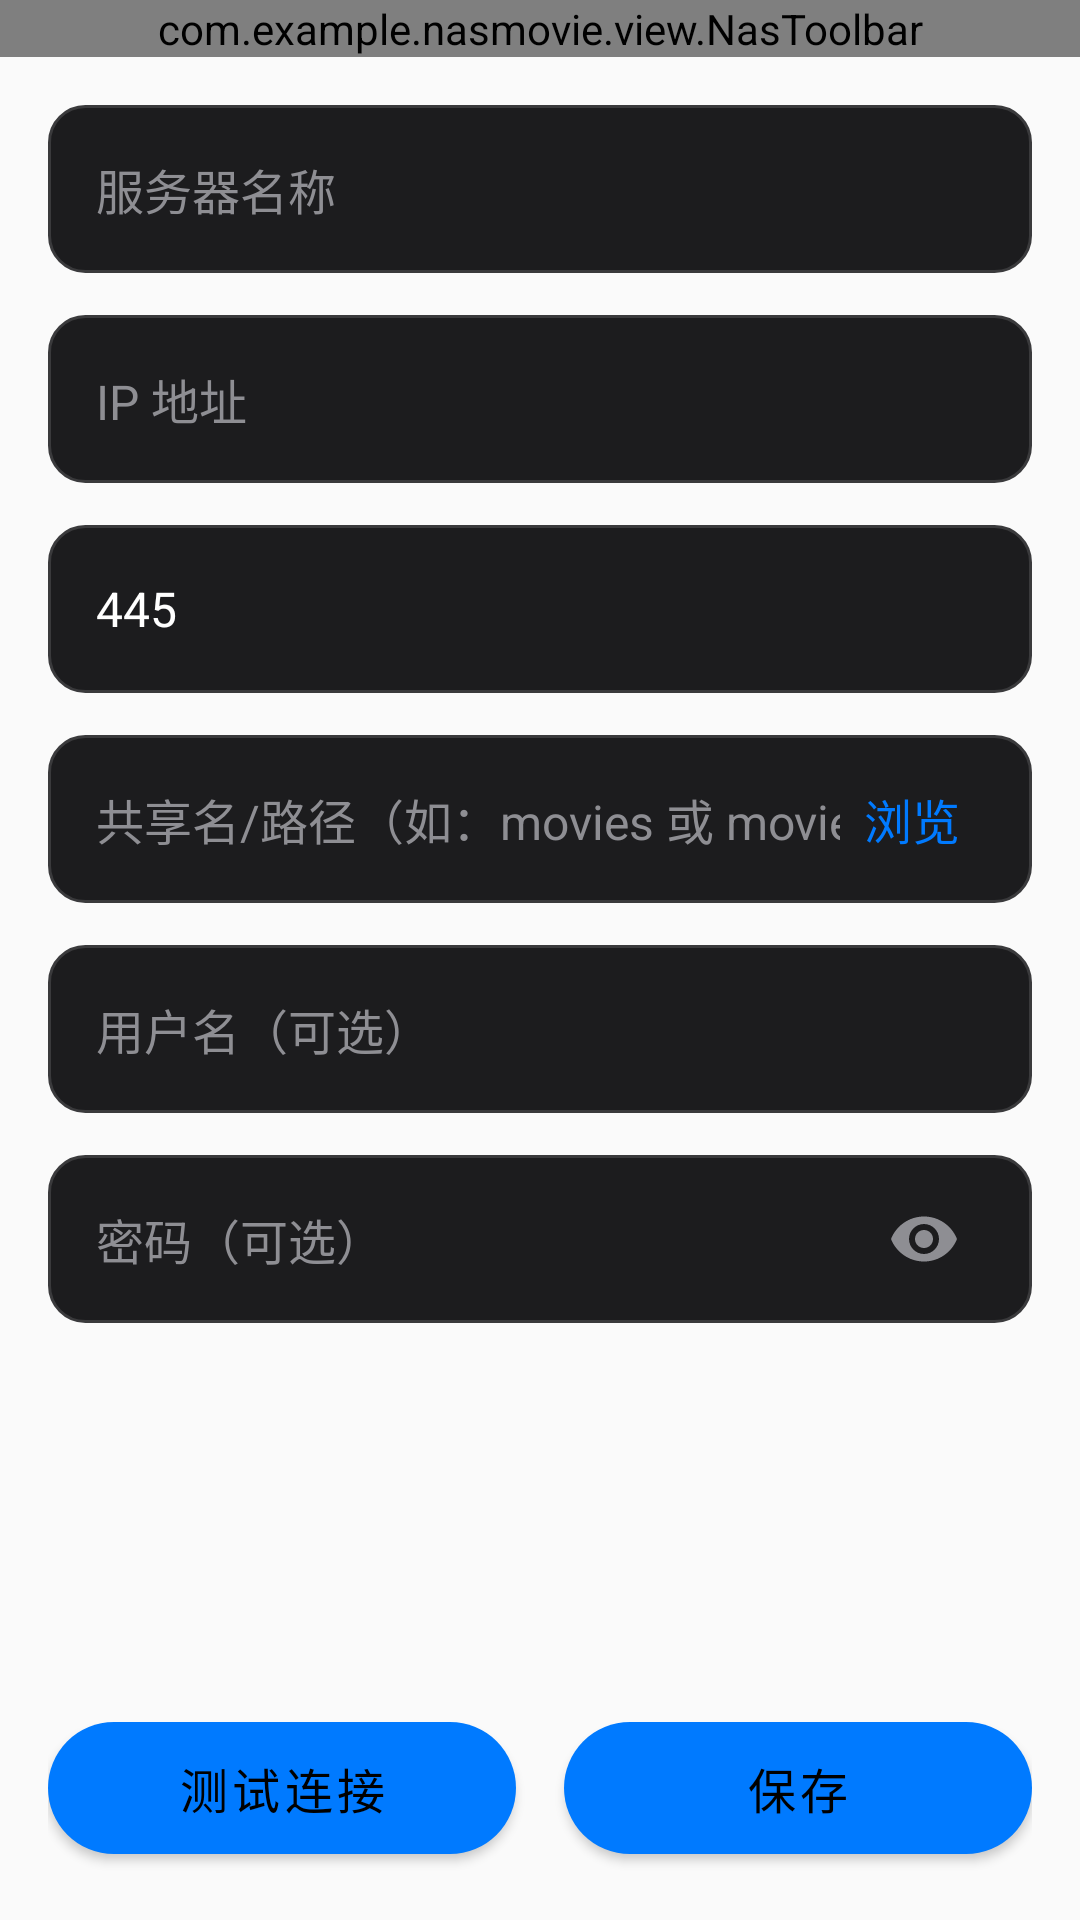

Locate icon controls on the screen. Image size 1080px×1920px, boxes as (x1, y1, x2, y2).
visibility: (891, 1216, 957, 1262)
